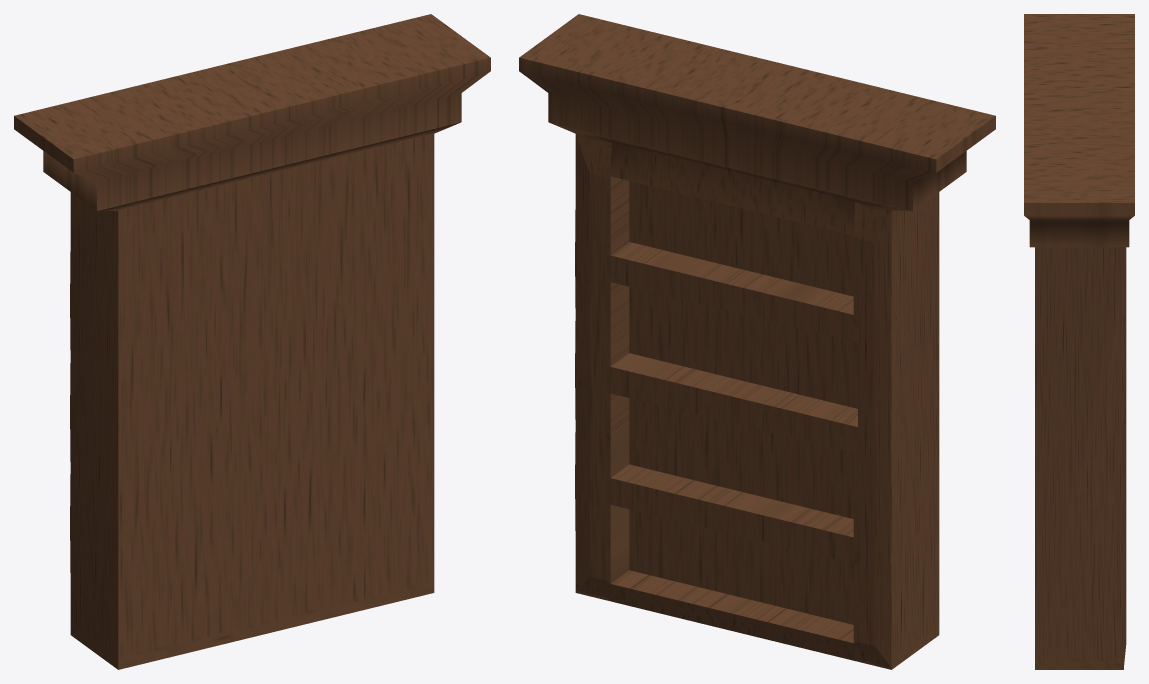
The model's file is Job Board.fbx.
The picture shows the model from 3 angles, left to right: view 1: azimuth 30°, elevation 25°; view 2: azimuth 150°, elevation 25°; view 3: azimuth 270°, elevation 25°; orthographic projection. The views are drawn at different scales.
Parts seen in each view (by area): view 1: pCube19; view 2: pCube19; view 3: pCube19.
Part boxes in pixels (bbox=[...]): pCube19: bbox=[14, 14, 490, 669]; pCube19: bbox=[519, 14, 995, 669]; pCube19: bbox=[1024, 14, 1134, 669].
Size of the model in its own units: 246 by 297 by 60.93.
1 material, 1 textured.
